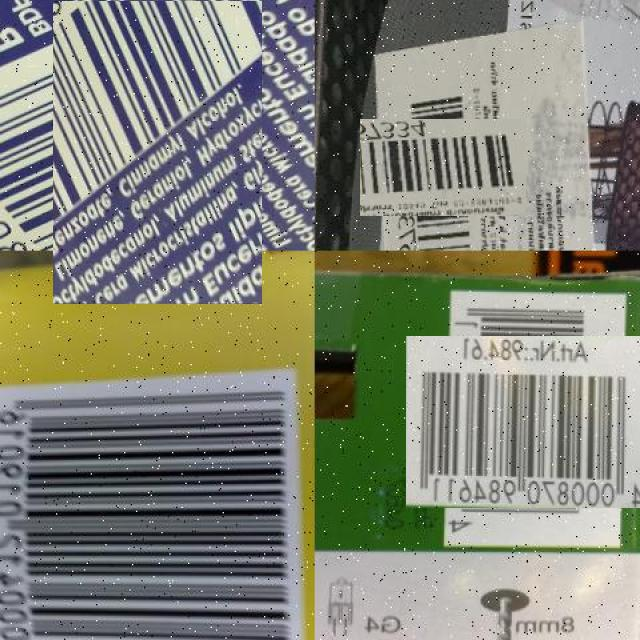Barcode: (0, 368, 311, 640), (26, 15, 289, 277), (427, 315, 640, 530), (377, 102, 510, 233)
